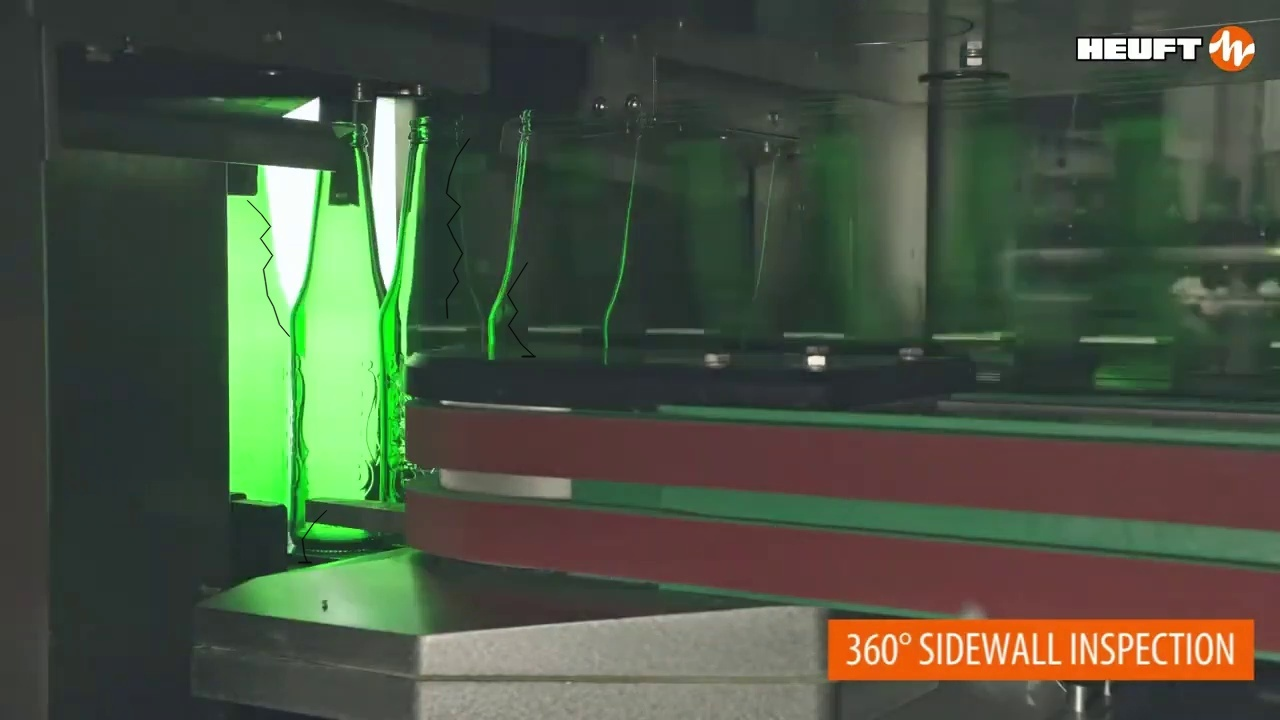bottle: (28, 52, 434, 536), (290, 119, 387, 558)
crack: (247, 200, 289, 336), (446, 138, 469, 318), (507, 262, 535, 356)
